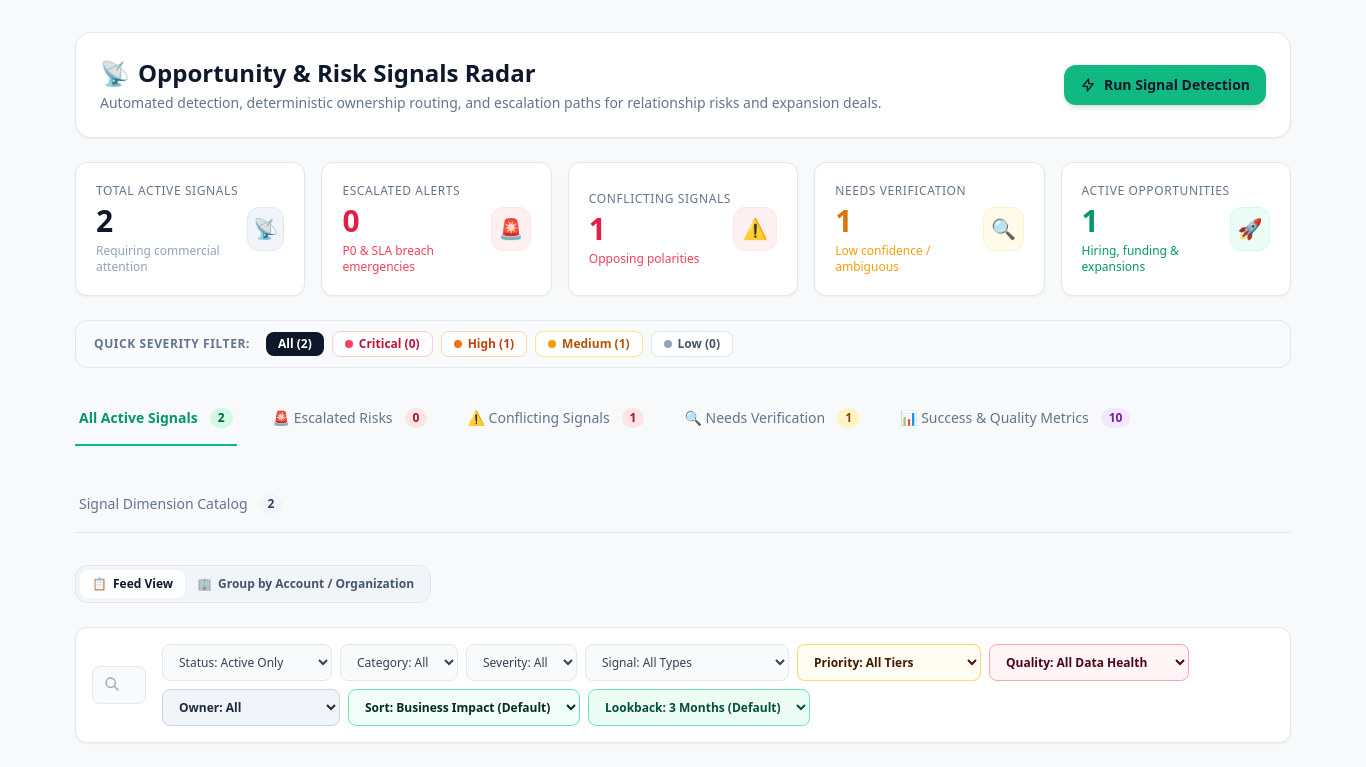
Test: SignalsPage Component › filters detected signals by Priority Tier using the priority filter dropdown
The width and height of the screenshot is (1366, 767).
// Filter to P0
Select "P0 • Critical Emergency" in the dropdown named "Filter by Priority Tier" at {"x": 889, "y": 662}, box x1=797 y1=644 x2=981 y2=681
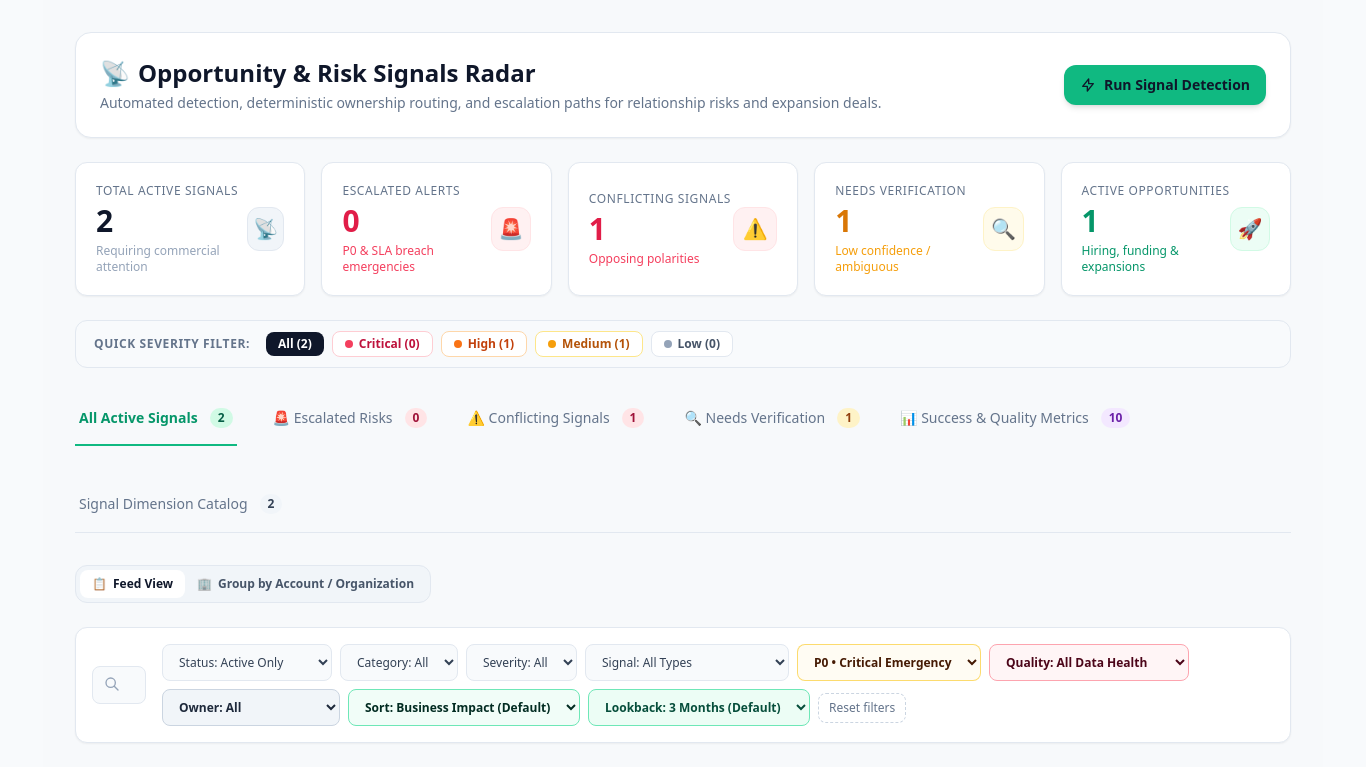
// Reset back to All
Select "Priority: All Tiers" in the dropdown named "Filter by Priority Tier" at {"x": 889, "y": 662}, box x1=797 y1=644 x2=981 y2=681
(page scrolled)
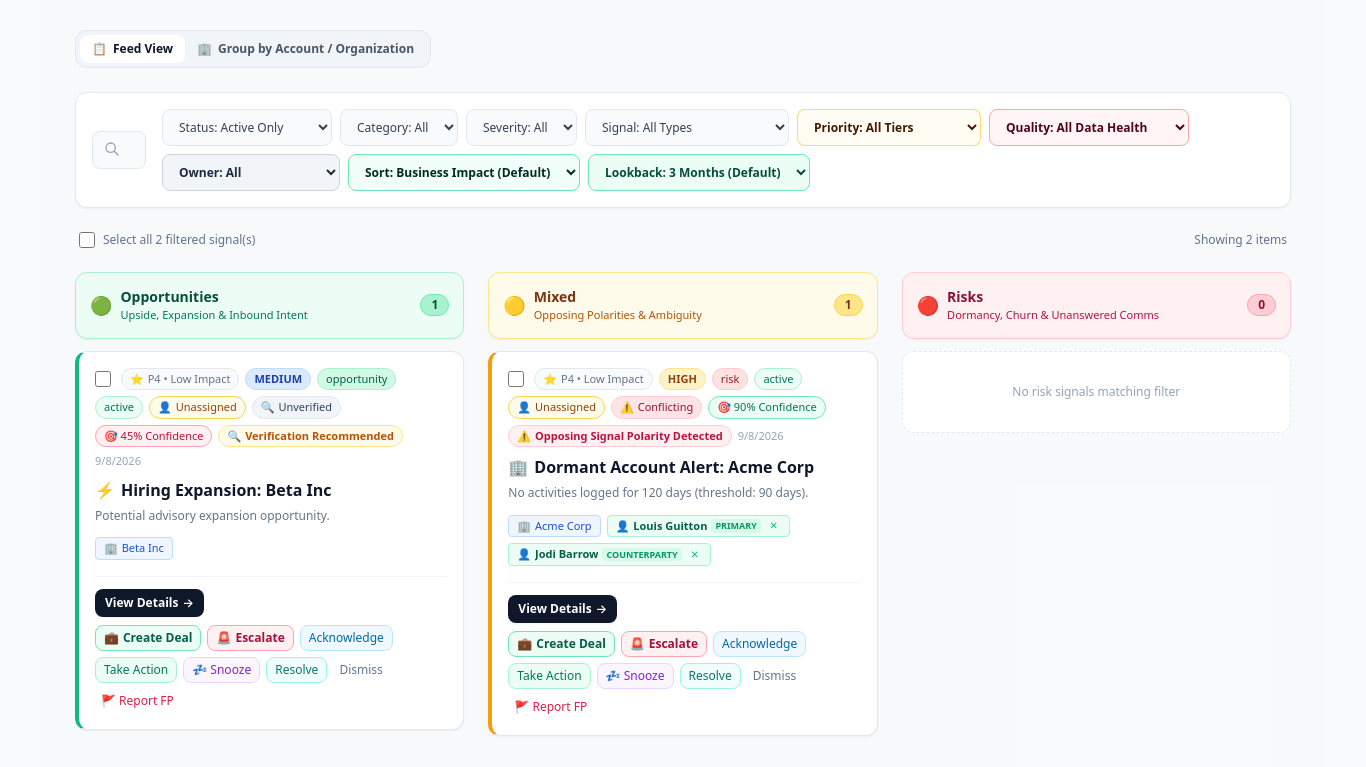
Check: the text "Dormant Account Alert: Acme Corp" is shown, box x1=534 y1=455 x2=814 y2=479
